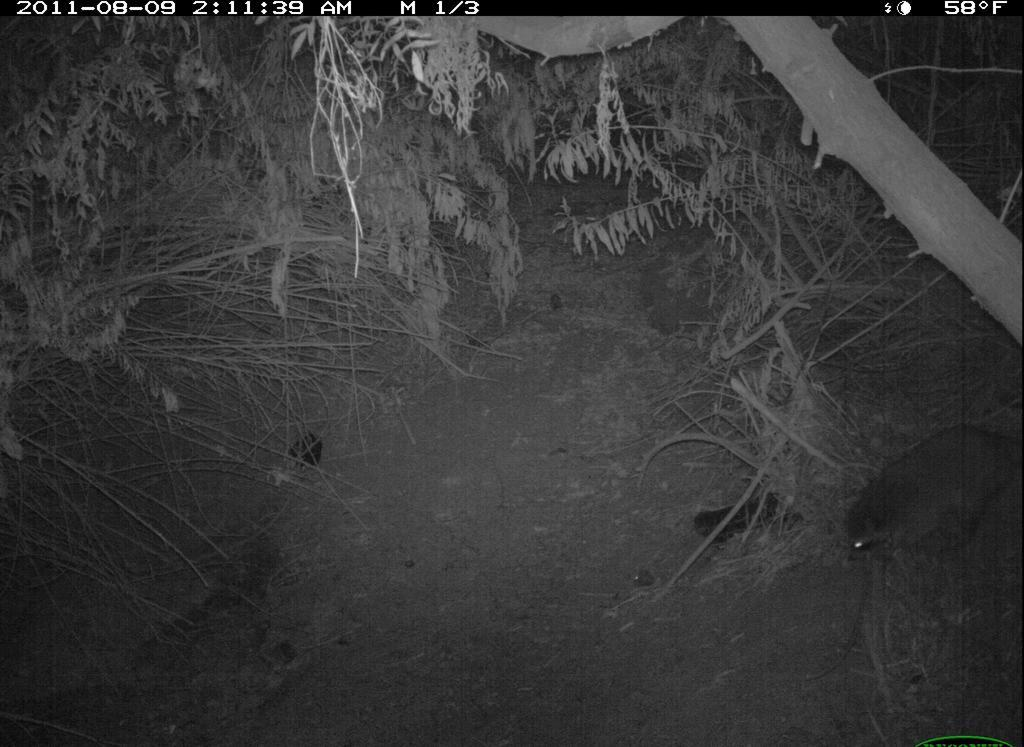raccoon: (834, 418, 1012, 592)
